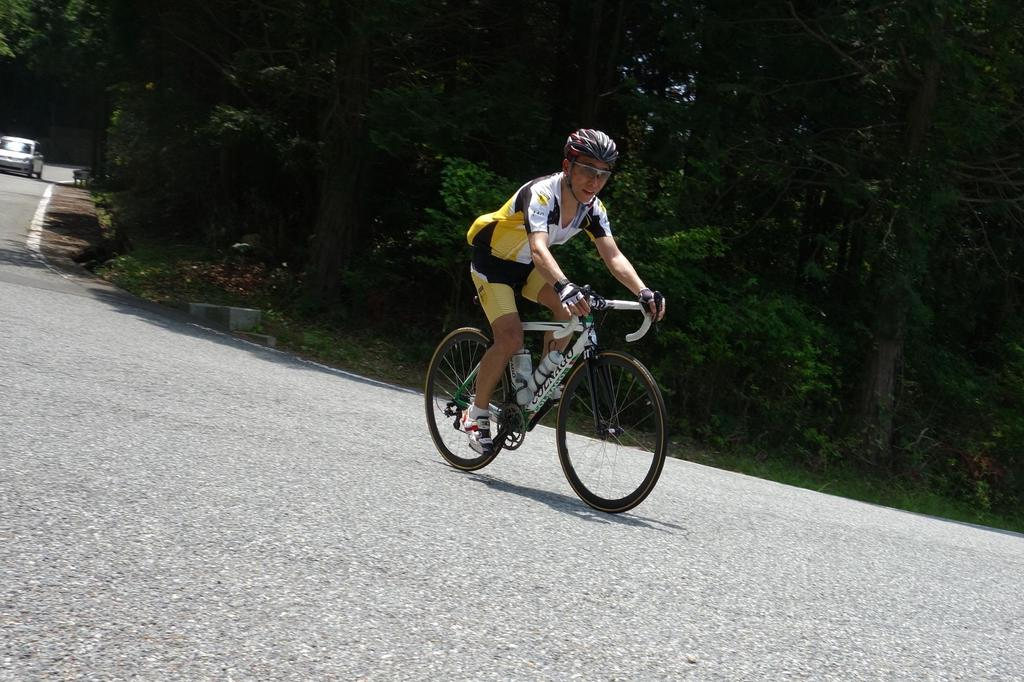Bike: (425, 278, 672, 516)
